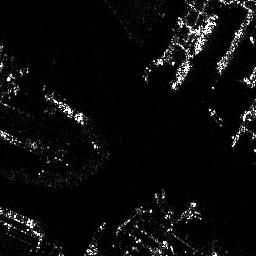ship: (44, 92, 86, 126), (194, 12, 218, 53), (171, 59, 191, 90)
